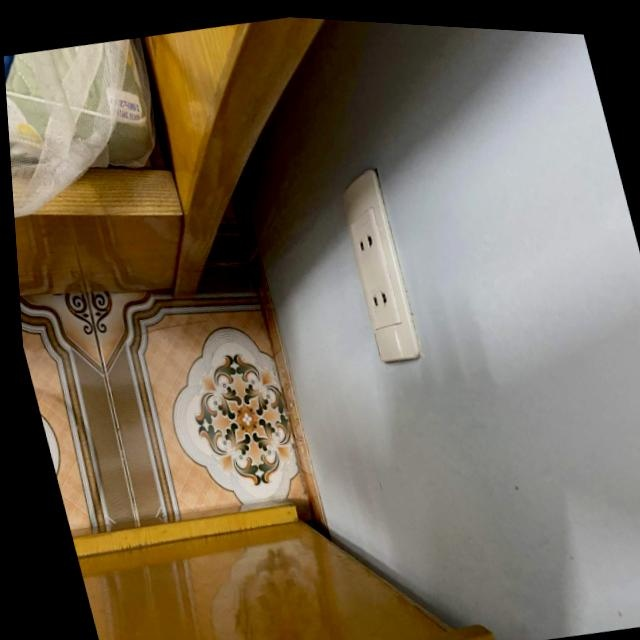outlet: (330, 165, 425, 367)
